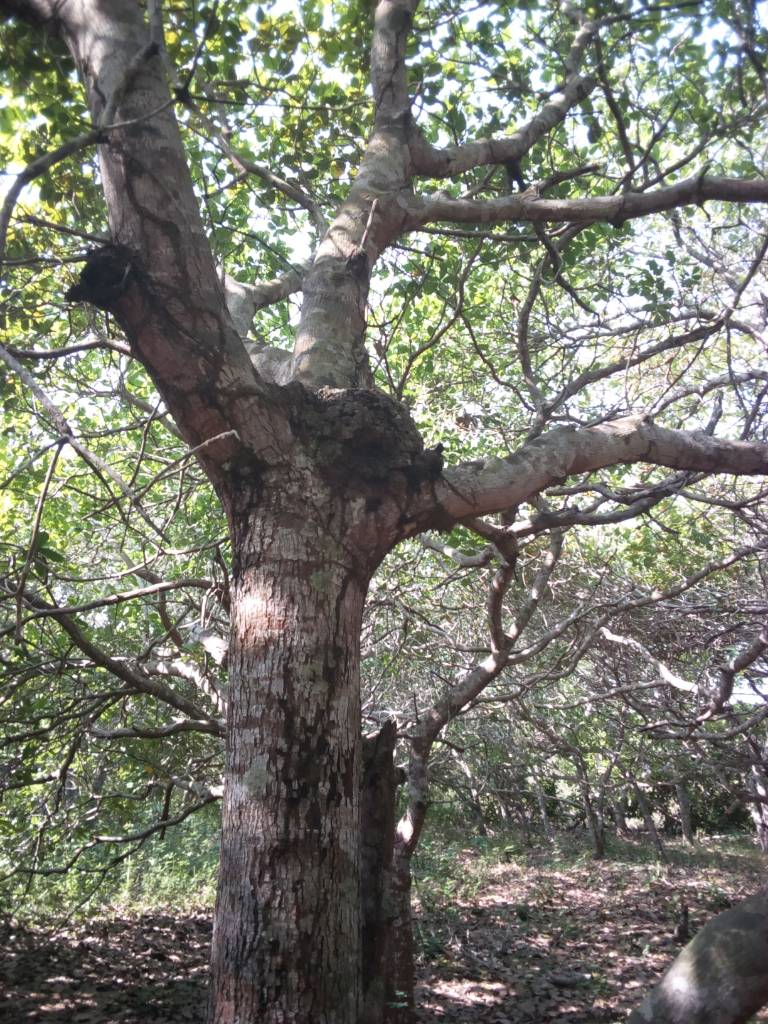Termites: (118, 163, 265, 444), (275, 369, 447, 491)
